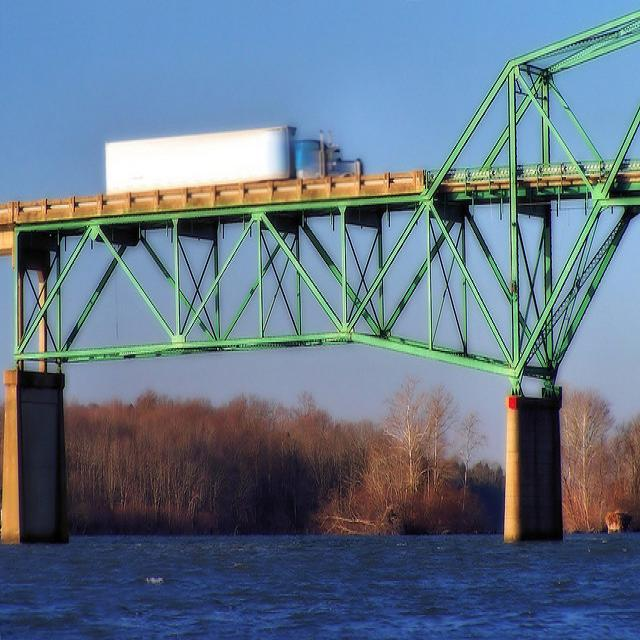Vehicle: (100, 120, 367, 200)
